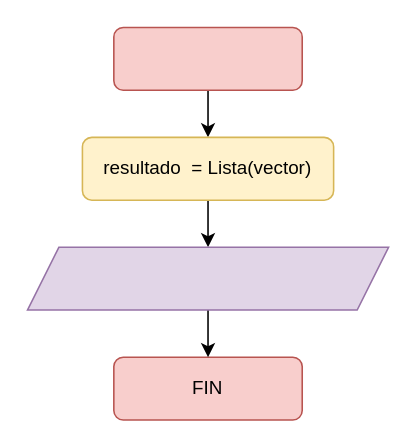
Image size: 416x447. Some labels were removed from this diagram. The shapes that lost their labels are listed below. From the top down, each one's centre as x and y in pixels, then its label:
(207,58): INICIO
(207,278): resultado.ordenacoin_burbuja()
